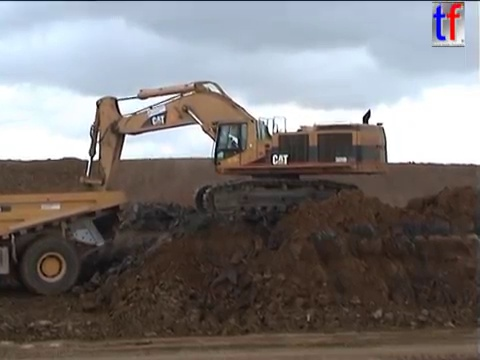excavator: (63, 77, 390, 249)
truck: (1, 187, 129, 296)
